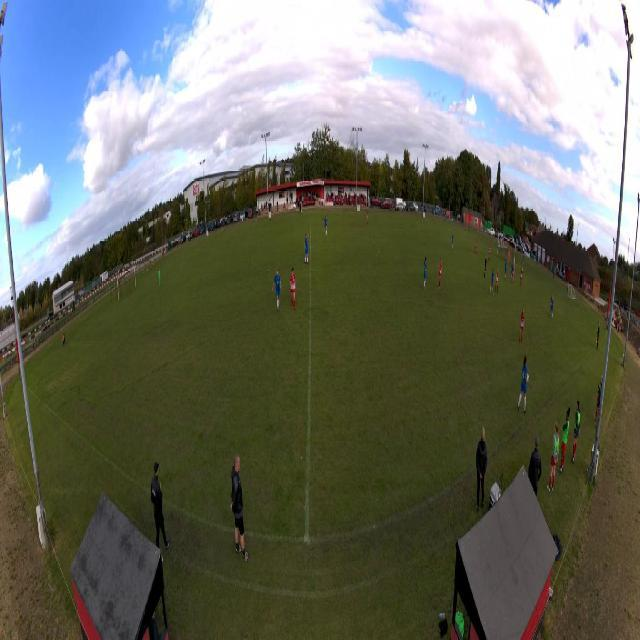ball: (526, 373, 530, 384)
player: (517, 355, 529, 415), (271, 267, 282, 314), (290, 266, 297, 312), (519, 308, 526, 344), (423, 255, 428, 292), (490, 267, 496, 296), (304, 232, 309, 266), (438, 257, 443, 291), (483, 253, 488, 280), (549, 296, 554, 320), (495, 267, 499, 294), (323, 215, 328, 235), (157, 267, 161, 292), (504, 259, 508, 281), (511, 263, 515, 284), (520, 266, 524, 287), (487, 244, 491, 263), (510, 261, 513, 281), (452, 231, 455, 250), (550, 293, 553, 312), (475, 238, 478, 256), (366, 208, 369, 225), (508, 249, 511, 265)
